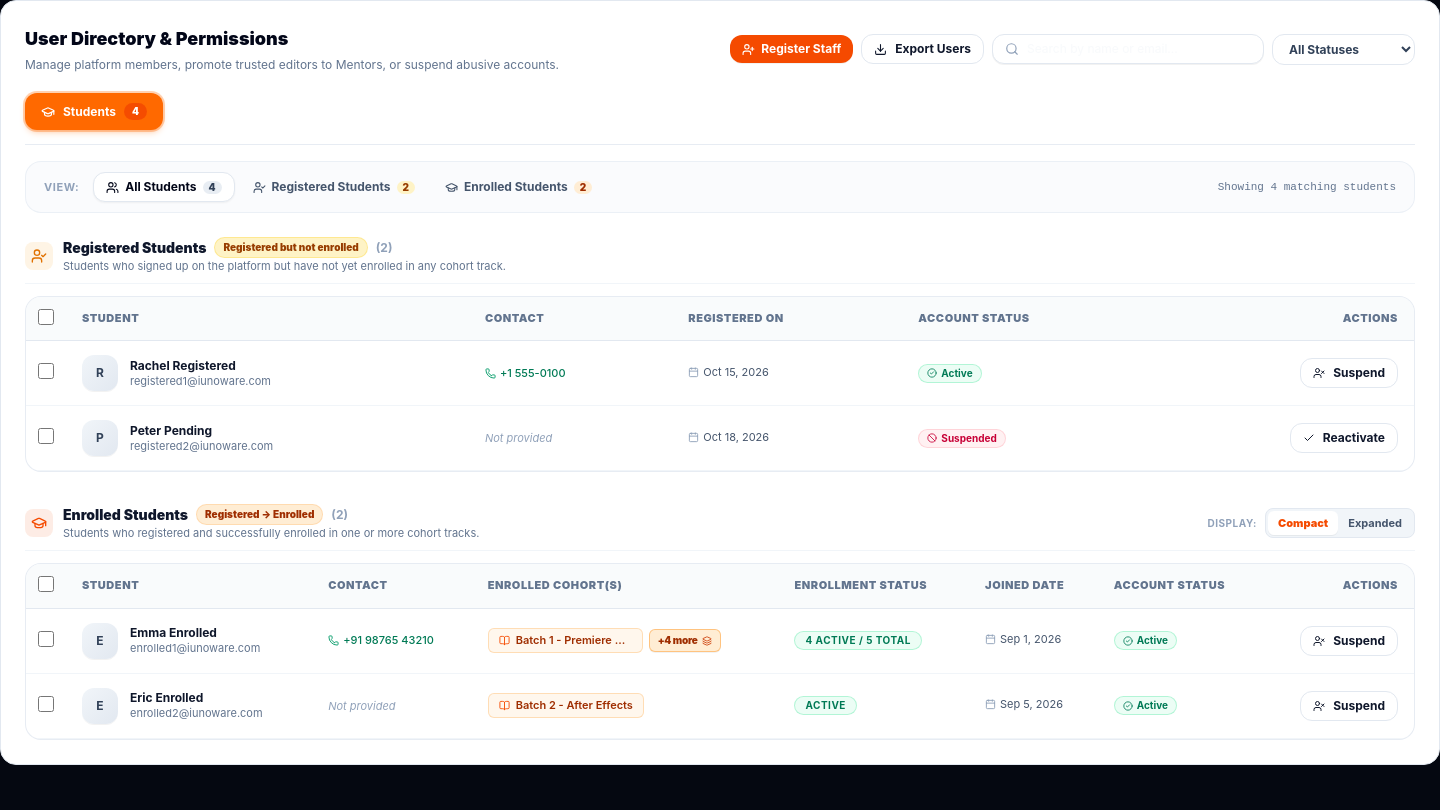
Admin Console - Student Directory Enrollment Segregation › handles multi-course enrolled students with uniform "+N more" badge and opens the detail modal
Check: the element with test id "enrolled-students-section" shows "Batch 1 - Premiere Pro", box [488,628,643,653]
Note: Click "+4 more" to open the Enrolled Cohorts modal
Click the button with test id "view-cohorts-student-enrolled-1" at (685, 641), box [649,629,721,652]
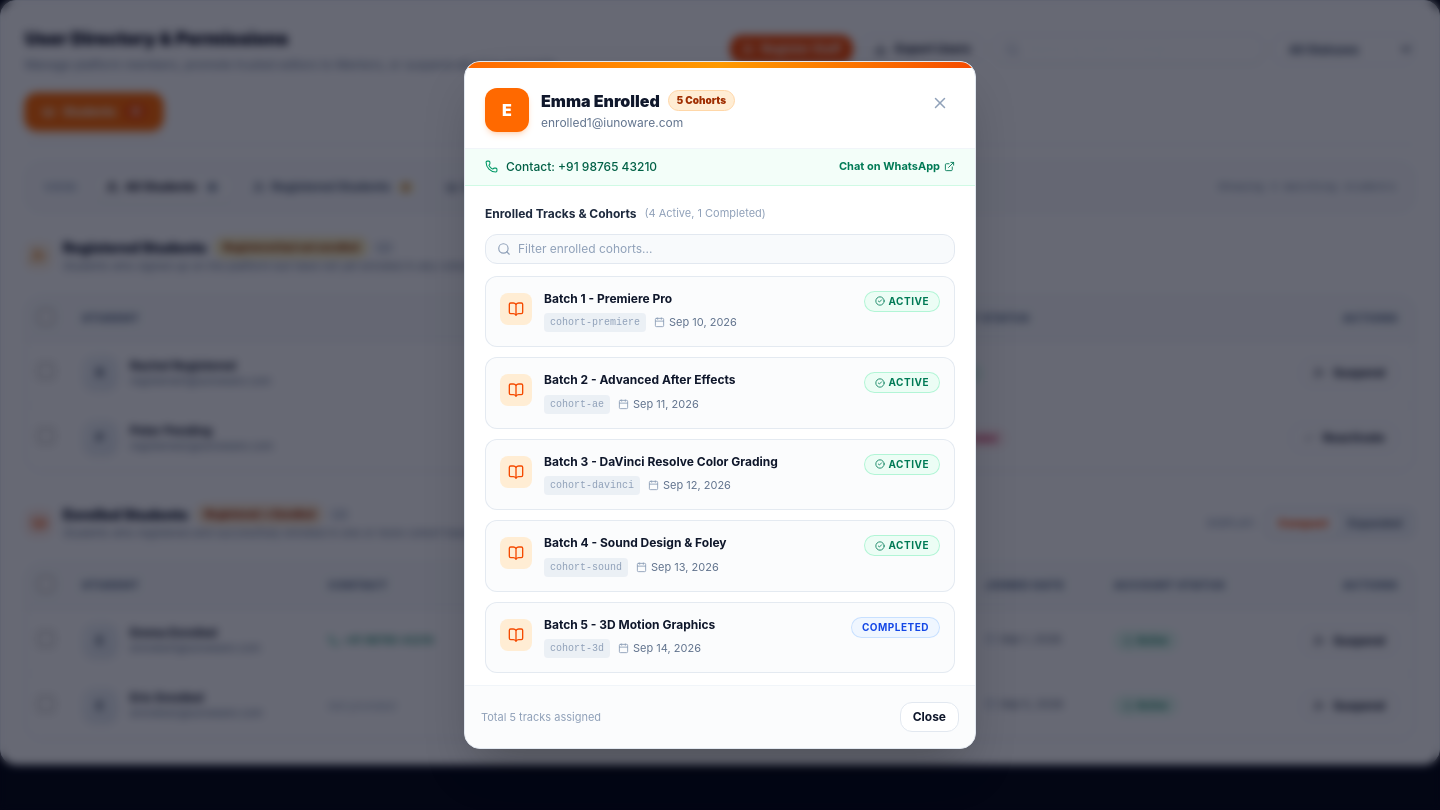
Check: the dialog is shown
Check: the dialog shows "Emma Enrolled", box [541,91,660,111]
Check: the dialog shows "5 Cohorts"
Note: Close button dismisses the modal
Click the button named "Close dialog" at (940, 103), box [925,88,955,118]
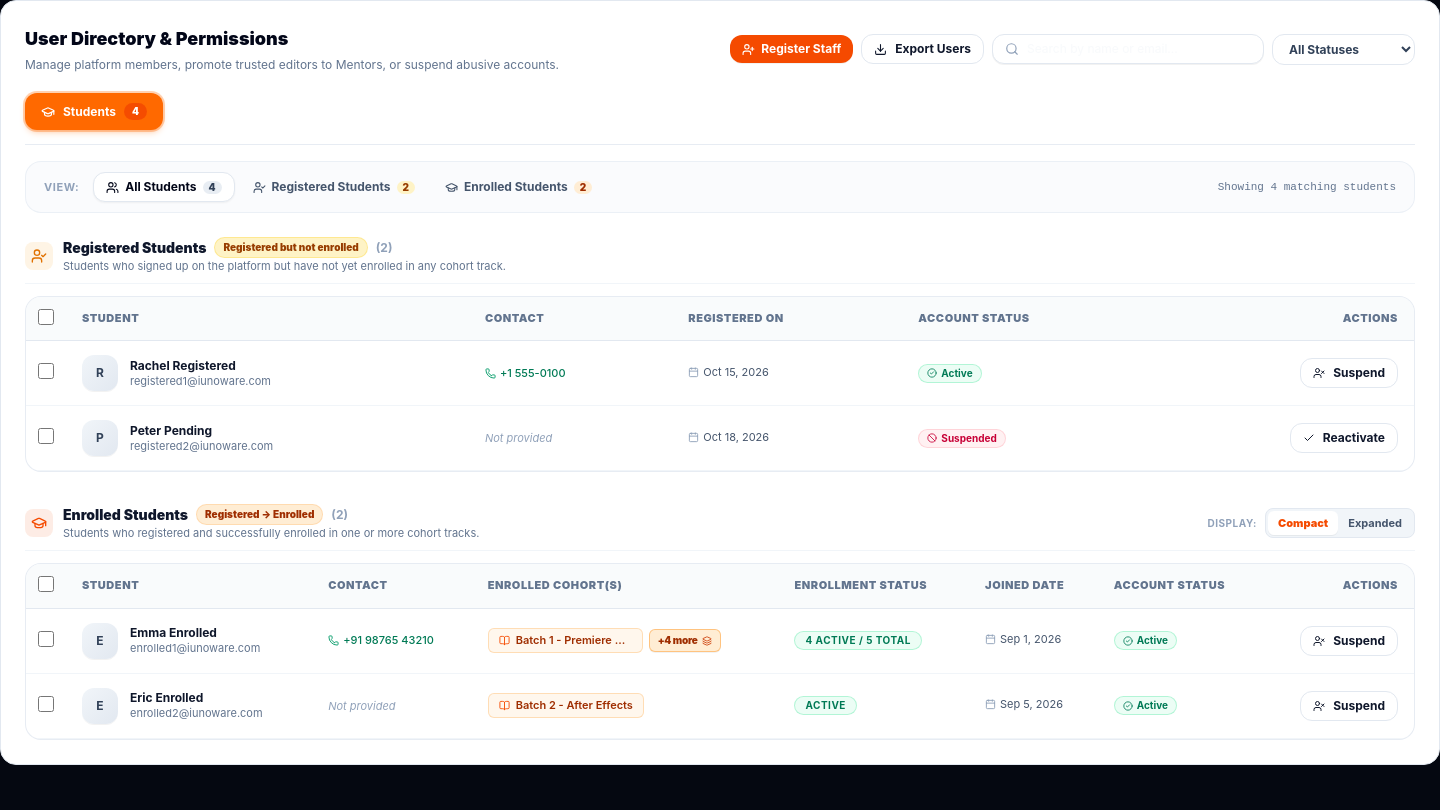
Check: the dialog is gone
